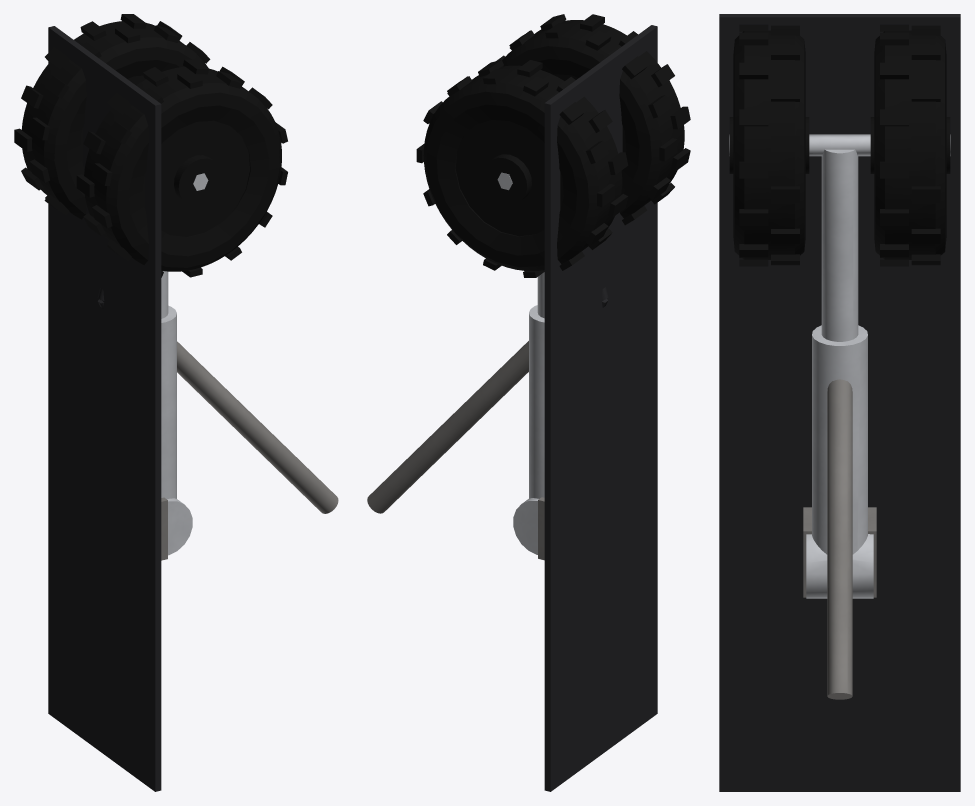
File: jet10_landing_gear_l.glb
The picture shows the model from 3 angles, left to right: view 1: azimuth 30°, elevation 25°; view 2: azimuth 150°, elevation 25°; view 3: azimuth 270°, elevation 25°; orthographic projection. The views are drawn at different scales.
Parts seen in each view (by area): view 1: mount_plate, wheel_1, wheel_2, drag_brace, oleo_strut; view 2: mount_plate, wheel_2, wheel_1, drag_brace, oleo_strut; view 3: mount_plate, wheel_1, wheel_2, oleo_strut, drag_brace, axle, trunnion.
Boxes of the visible parts, x1,y1,x2,y2 form: mount_plate: (48,26,161,791); wheel_1: (76,59,287,277); wheel_2: (14,14,210,219); drag_brace: (177,341,338,513); oleo_strut: (161,271,192,555); mount_plate: (544,25,657,791); wheel_2: (416,60,628,277); wheel_1: (496,14,690,225); drag_brace: (367,341,528,513); oleo_strut: (513,272,544,554); mount_plate: (719,14,960,791); wheel_1: (729,24,809,266); wheel_2: (870,24,950,266); oleo_strut: (806,149,873,598); drag_brace: (827,379,852,699); axle: (729,134,950,156); trunnion: (803,507,876,597).
Size of the model in its own units: 1.8 by 4.28 by 1.2.
Materials: 4 (2 with a texture image).
